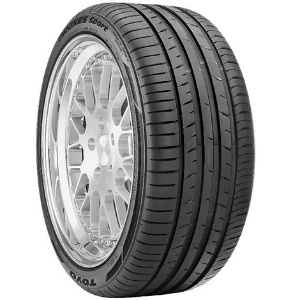tire: (38, 2, 256, 300)
